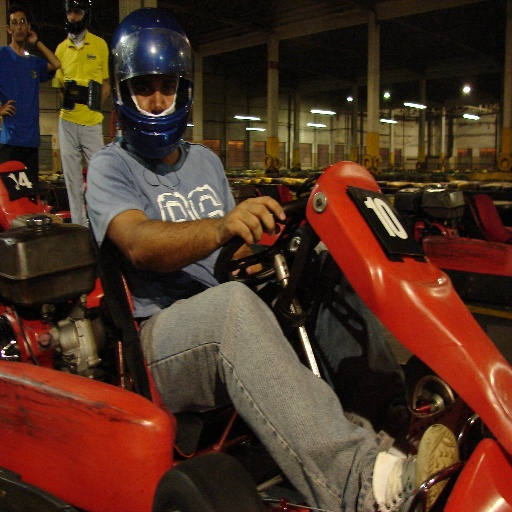hand: (204, 192, 293, 263), (232, 248, 261, 277), (0, 100, 17, 116), (25, 30, 36, 44)
